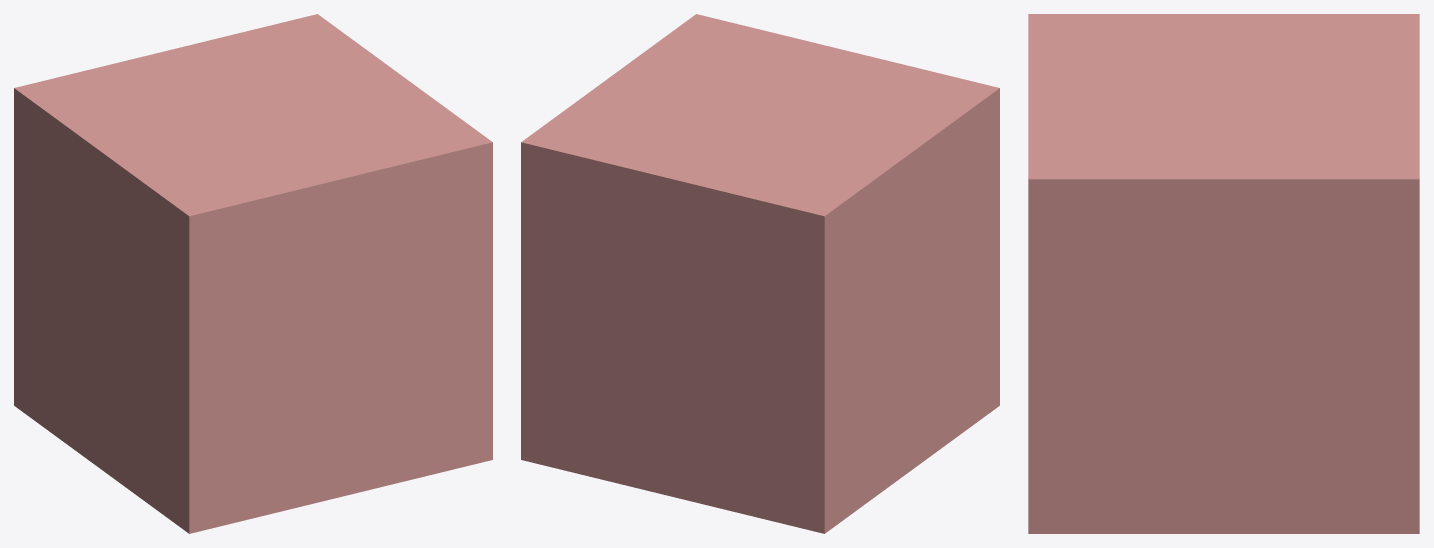
Rendered from stub.gltf.
3 renders of one model, left to right at view 1: azimuth 30°, elevation 25°; view 2: azimuth 150°, elevation 25°; view 3: azimuth 270°, elevation 25°, orthographic. The views are drawn at different scales.
Parts seen in each view (by area): view 1: stub_shell; view 2: stub_shell; view 3: stub_shell.
Boxes of the visible parts, x1,y1,x2,y2 form: stub_shell: [14, 14, 492, 533]; stub_shell: [521, 14, 999, 533]; stub_shell: [1028, 14, 1419, 533].
Bounding box in the file's own units: 2 × 2 × 2.
